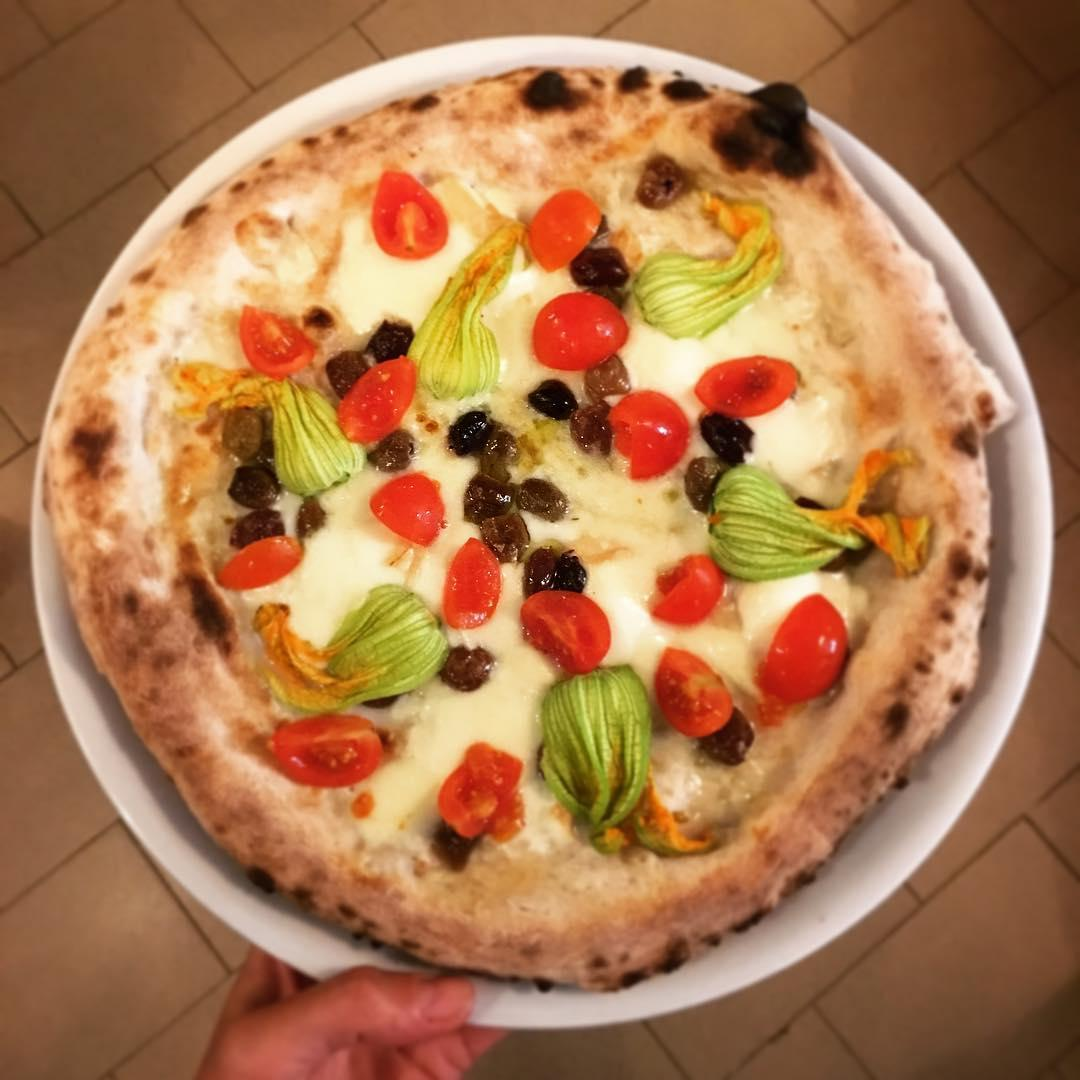Olives: (697, 707, 758, 767), (429, 819, 489, 874), (635, 155, 689, 216), (699, 409, 758, 464), (219, 406, 274, 460), (521, 548, 590, 591), (228, 459, 285, 510), (455, 475, 515, 522), (682, 455, 731, 512), (477, 517, 533, 564), (567, 403, 616, 456), (223, 509, 287, 549), (440, 644, 494, 691), (524, 378, 580, 422), (446, 410, 496, 458), (573, 245, 629, 287), (516, 474, 572, 516), (582, 356, 633, 401), (363, 429, 416, 472), (477, 431, 521, 481), (326, 352, 370, 398)
Pizza: (42, 66, 989, 990)
Tomatoes: (760, 597, 850, 705), (435, 745, 525, 844), (271, 714, 381, 788), (607, 390, 691, 483), (532, 292, 629, 372), (519, 592, 609, 675), (657, 644, 736, 737), (335, 356, 417, 444), (369, 172, 450, 261), (692, 355, 801, 419), (524, 190, 603, 272), (237, 302, 319, 379), (445, 538, 503, 631), (216, 532, 305, 592), (649, 556, 724, 626), (374, 473, 445, 546)
